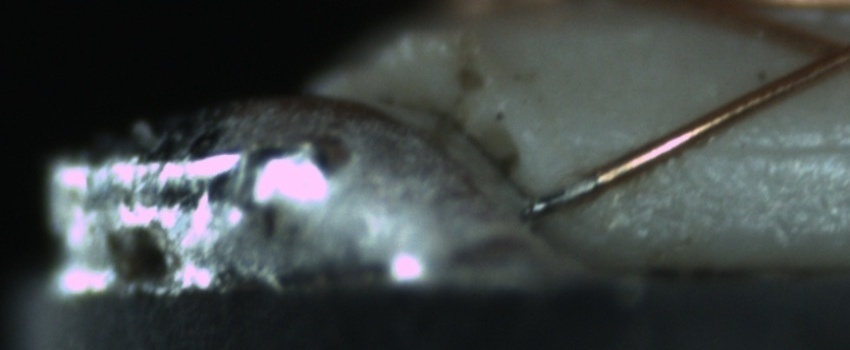CL: (795, 21, 849, 79)
DL: (694, 116, 847, 185)
TS: (526, 169, 602, 216)
